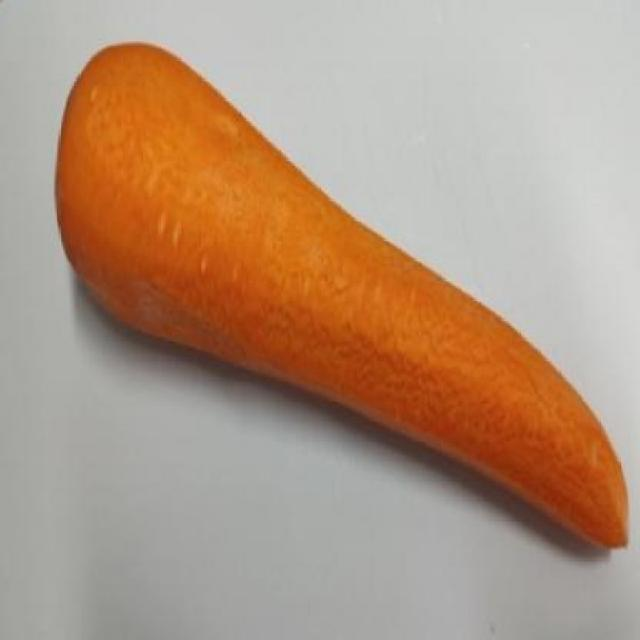Carrot: (56, 44, 628, 548)
